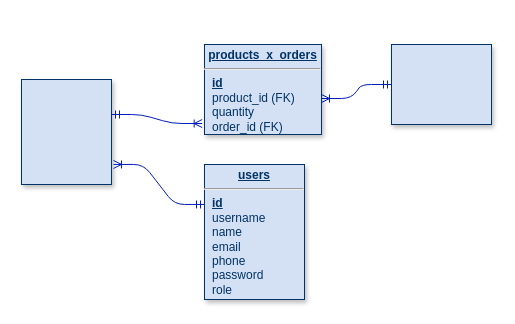
Some shapes in this 515 by 324 pixel diagram are drawn without their labels. The centre of each missing label's shape, as x and y in pixels:
"orders id status time payment user_id (FK)" goes at point (67, 133).
"products id name price" goes at point (442, 86).
